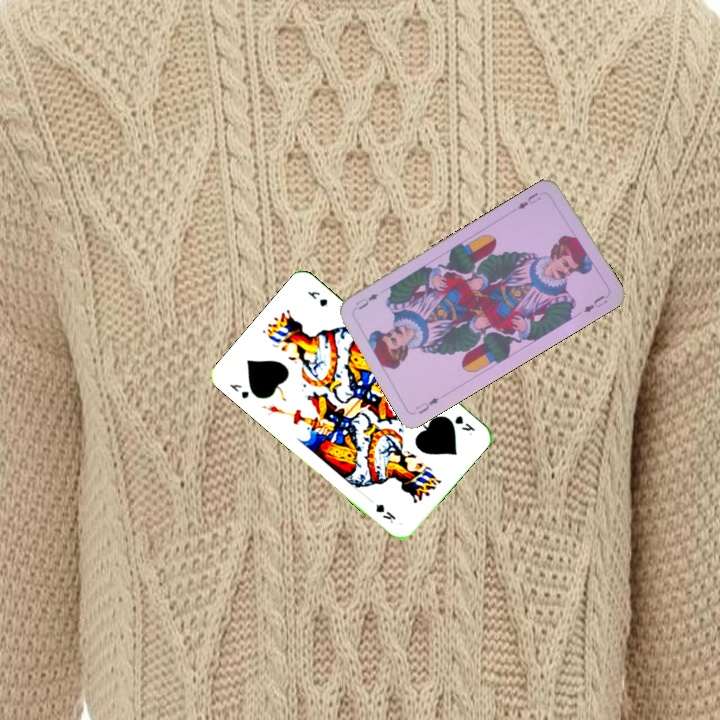EU: (513, 188, 544, 212), (412, 393, 441, 417)
GK: (451, 411, 477, 434), (225, 380, 252, 401)
